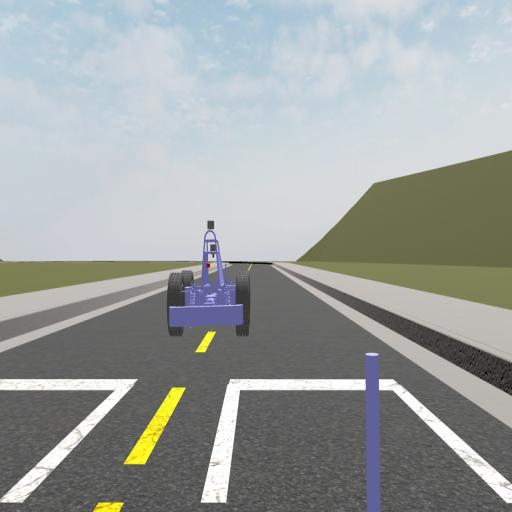ERP-42: (167, 220, 251, 336)
